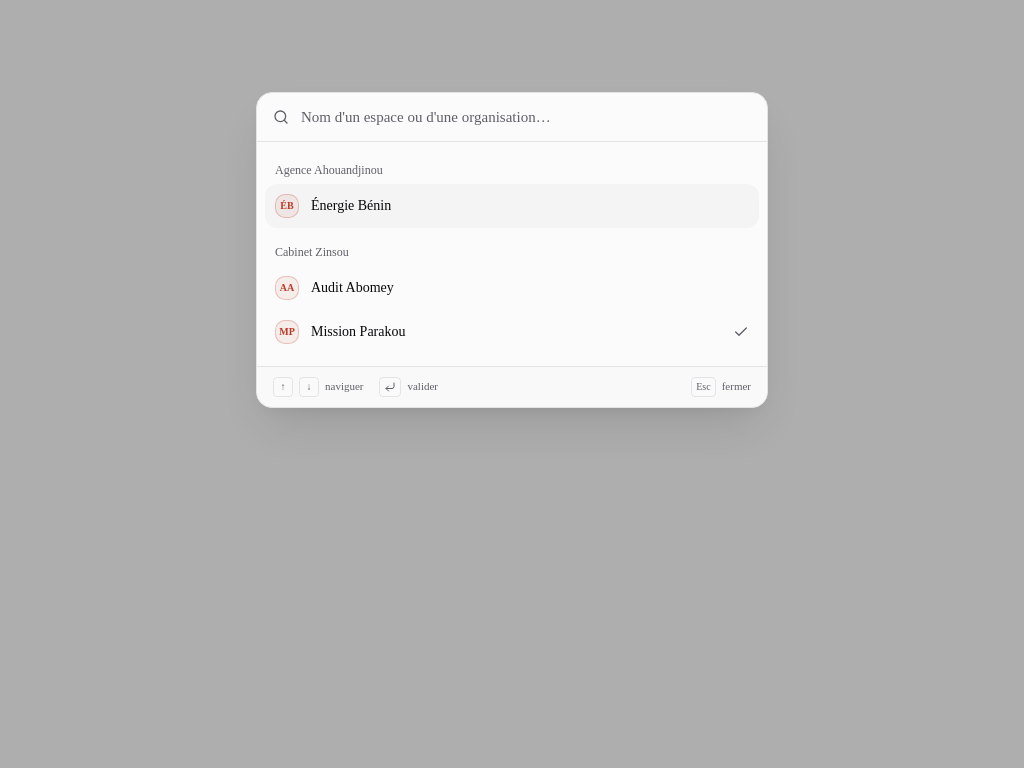
Scenario: CommandPalette, workspace search (KRB-206) › says so when nothing matches
This screenshot has width=1024, height=768.
In the dropdown: {"x": 526, "y": 117} [301,93,751,141], type "kandi"
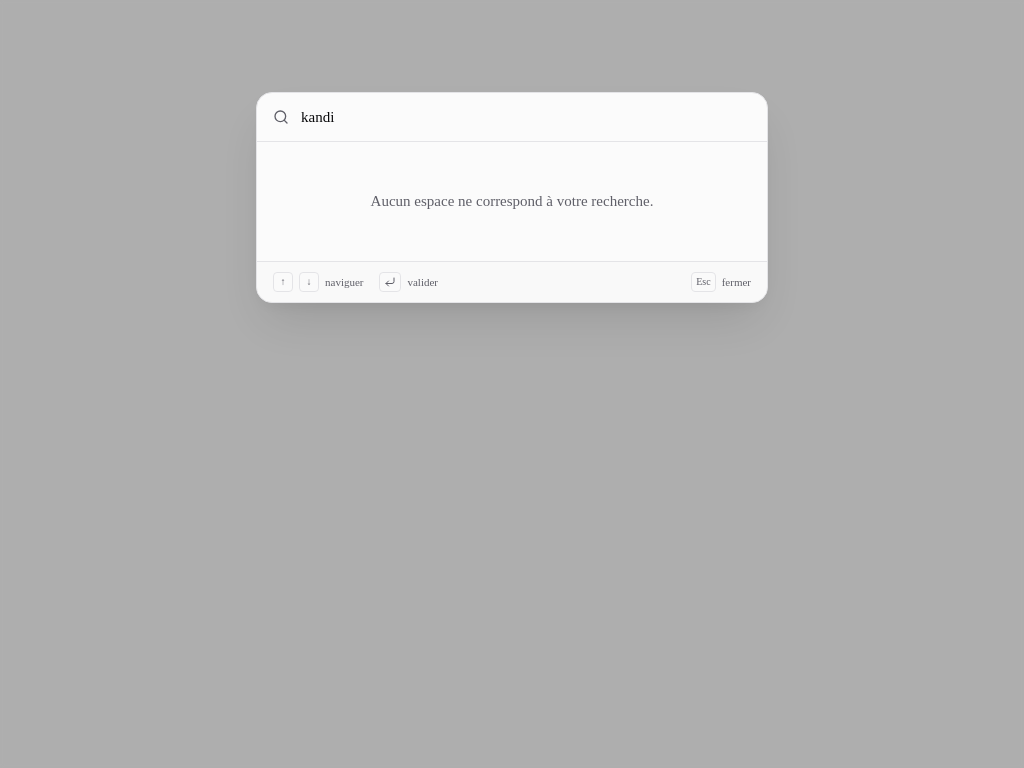
expect the text "Aucun espace ne correspond à votre recherche." is shown: met, box [371,193,653,209]
